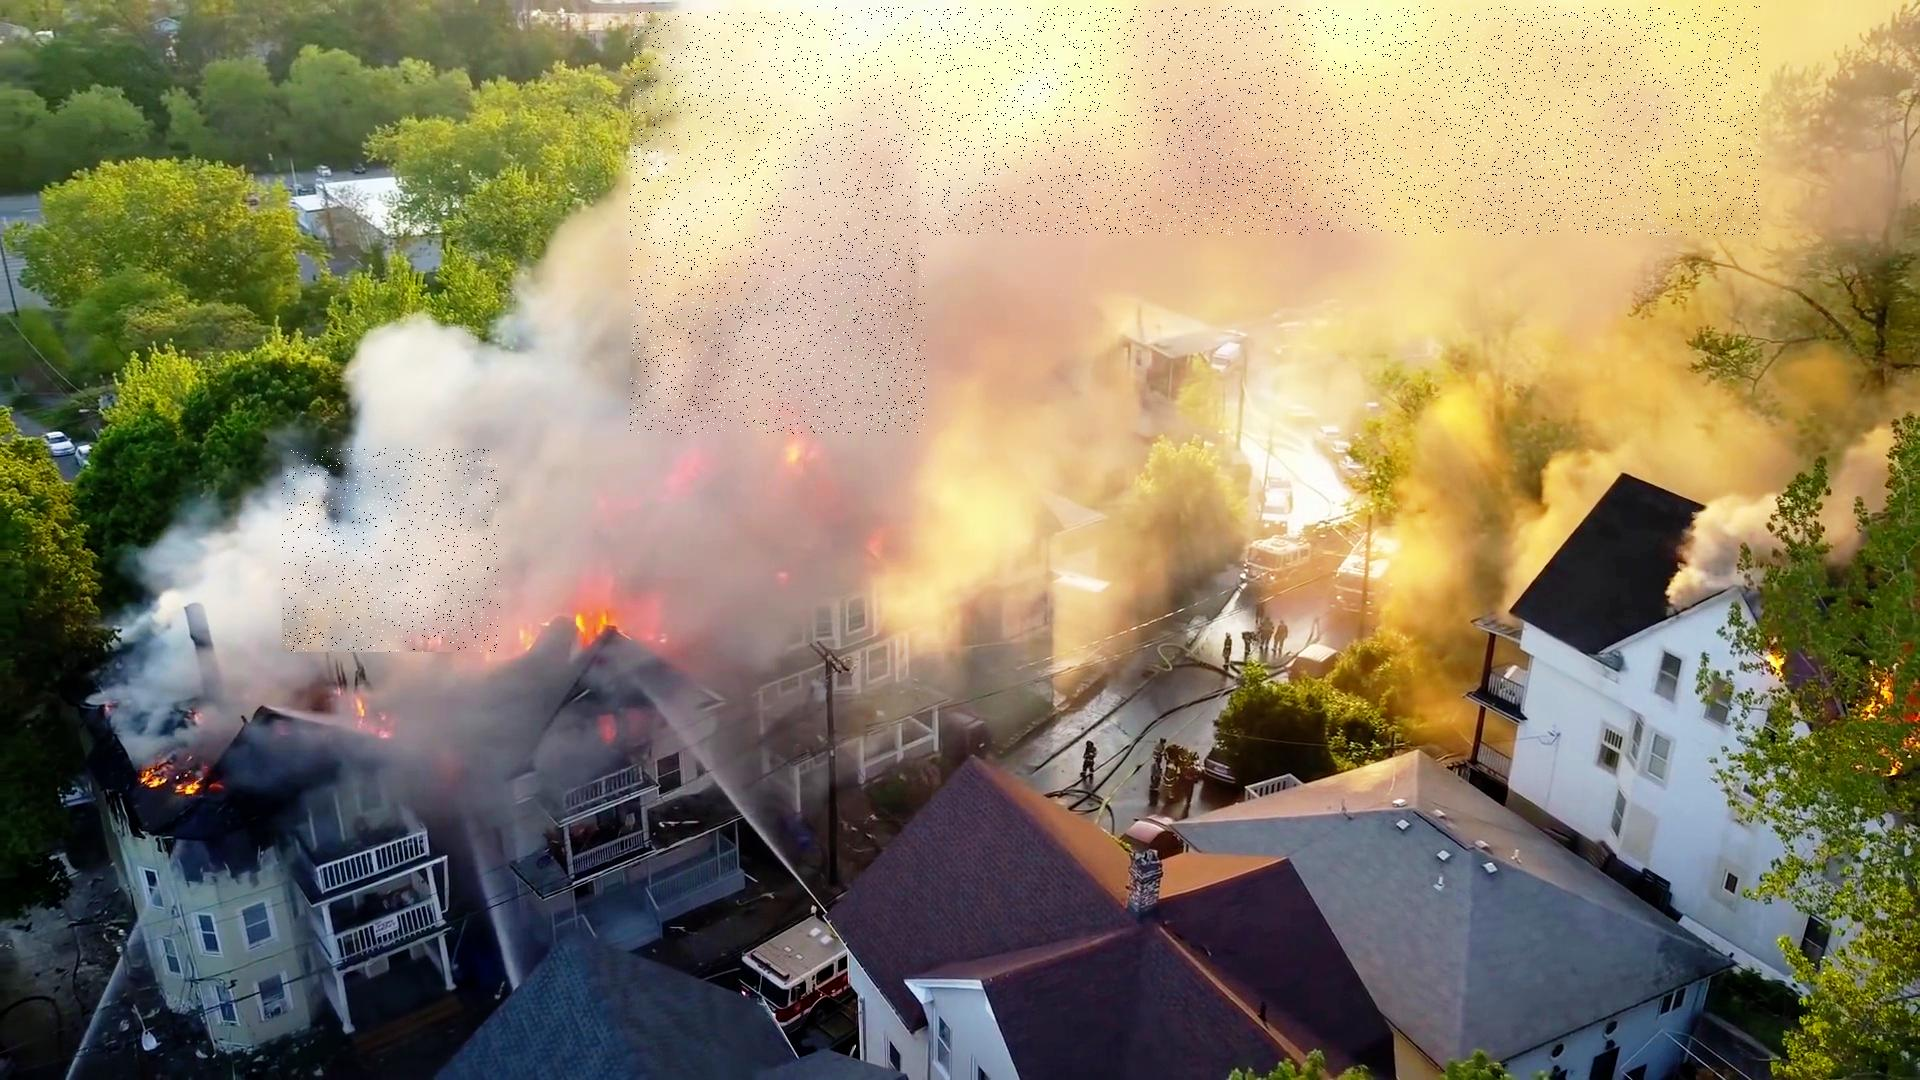smoke: (806, 7, 1760, 235), (630, 13, 926, 435), (284, 448, 501, 653)
